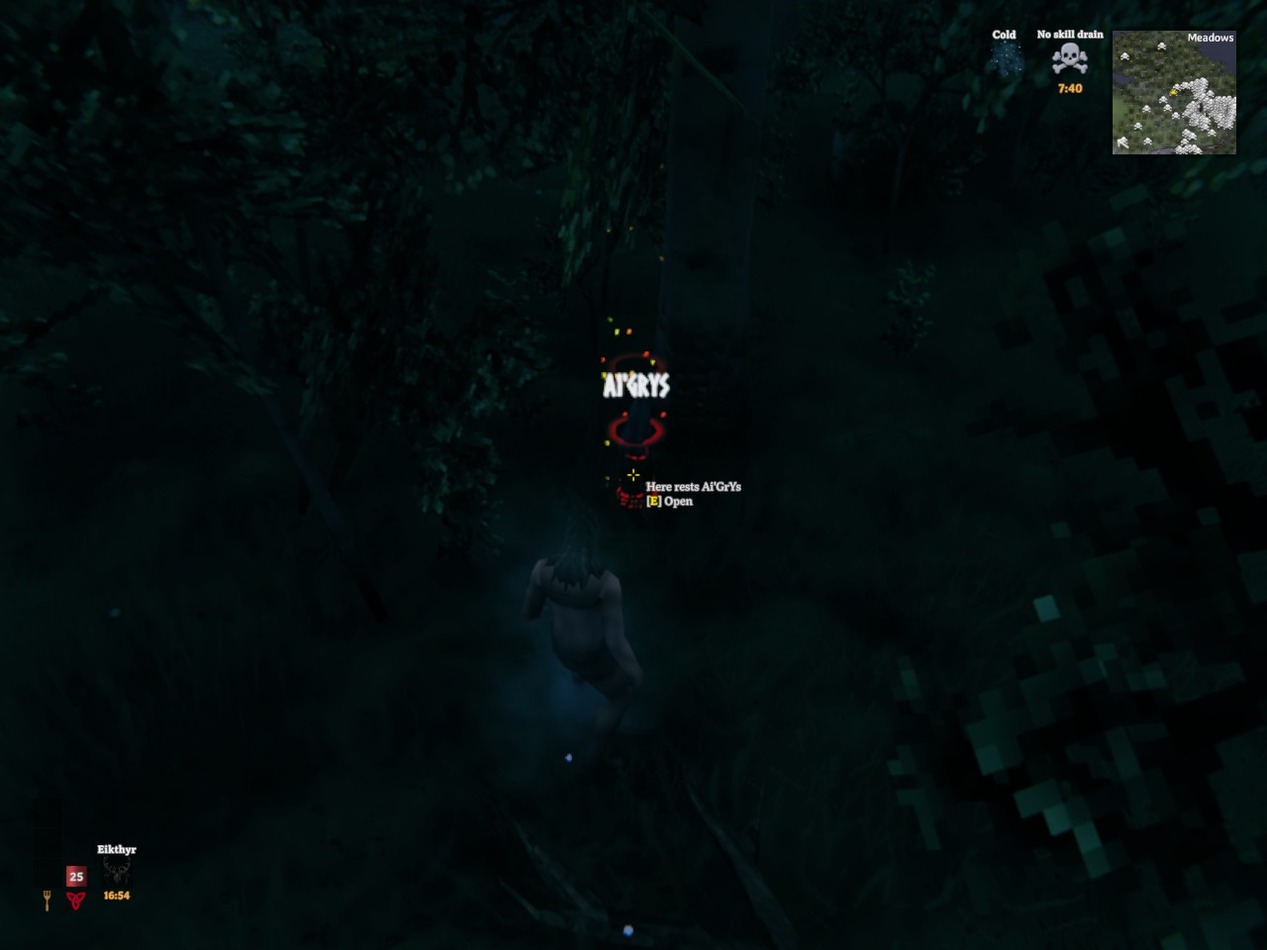Gravestone: (609, 419, 657, 510)
